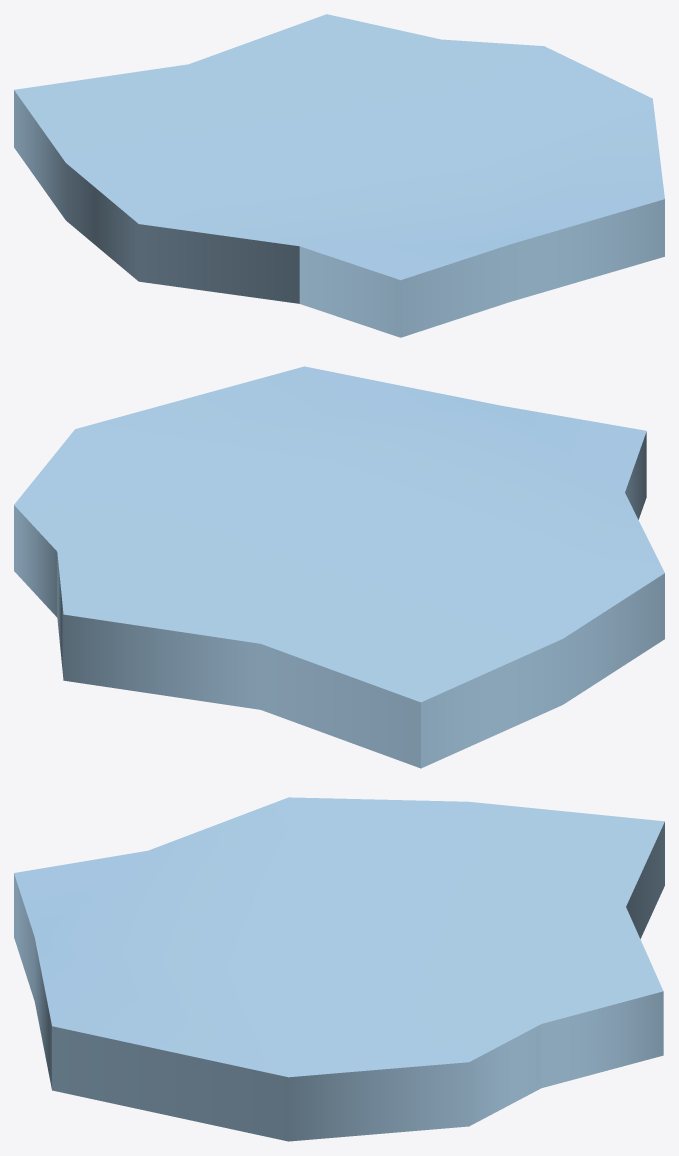
The model's file is Rock 42.FBX.
The picture shows the model from 3 angles, top to bottom: view 1: azimuth 30°, elevation 25°; view 2: azimuth 150°, elevation 25°; view 3: azimuth 270°, elevation 25°; orthographic projection. The views are drawn at different scales.
Parts seen in each view (by area): view 1: Box001; view 2: Box001; view 3: Box001.
Part boxes in pixels (x1=…): Box001: x1=14, y1=14, x2=664, y2=337; Box001: x1=14, y1=366, x2=664, y2=768; Box001: x1=14, y1=797, x2=664, y2=1141.
Size of the model in its own units: 45.41 by 4.86 by 44.64.
